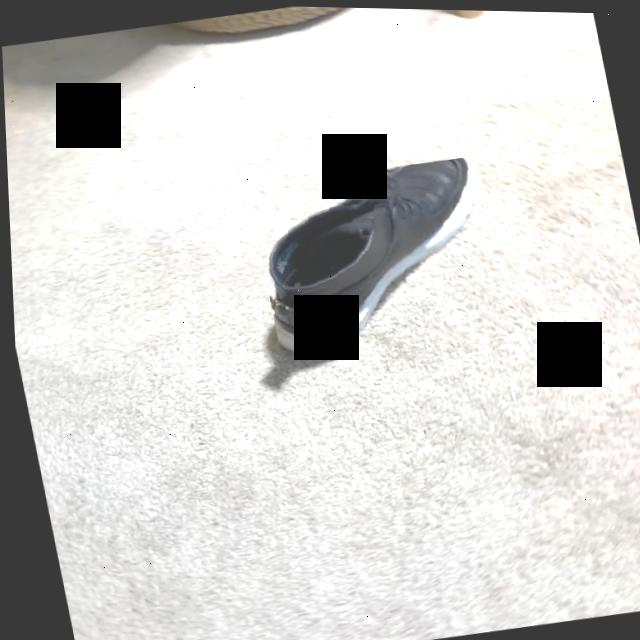shoe: (267, 155, 478, 359)
